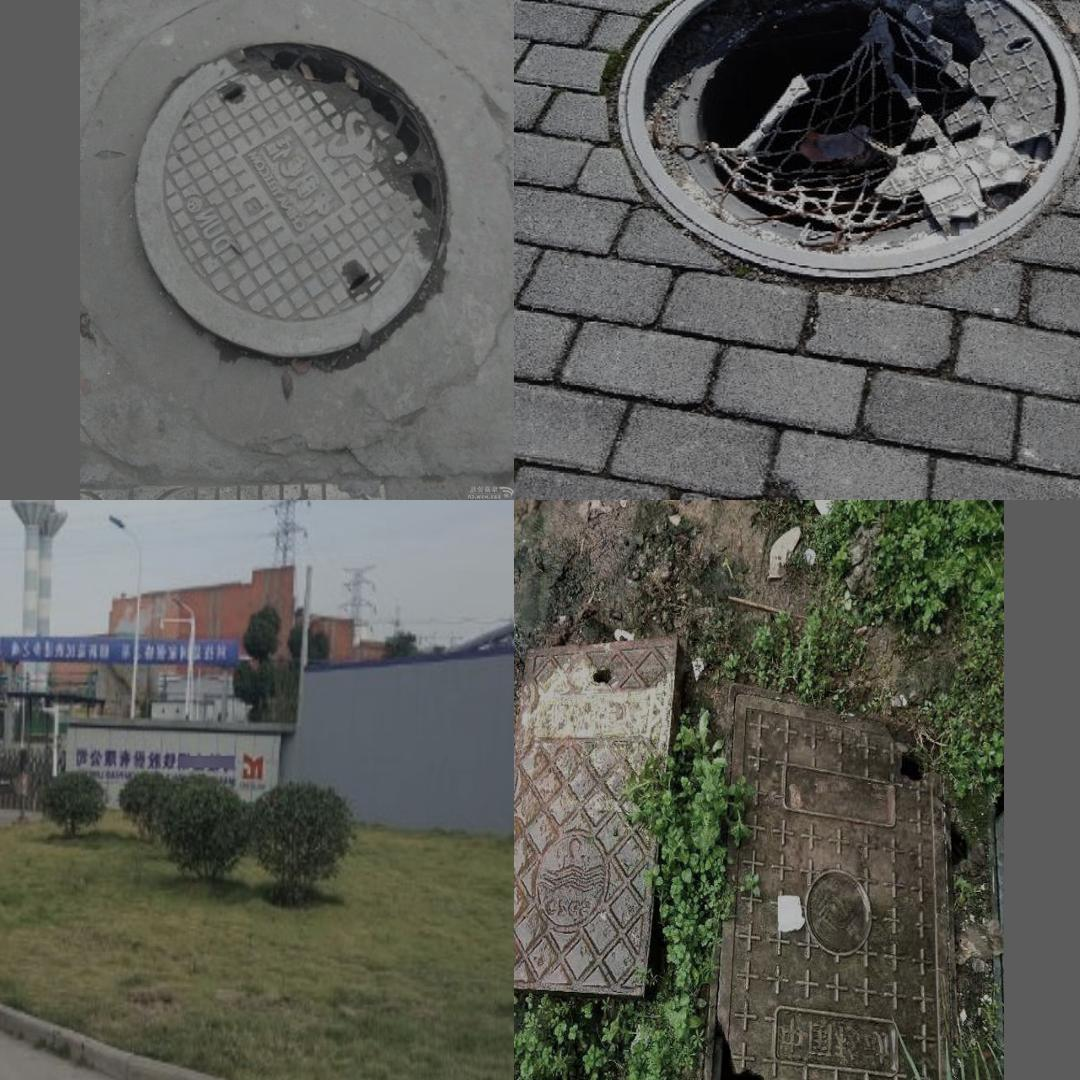broke: (102, 0, 501, 430), (578, 0, 1080, 304), (699, 682, 949, 1080)
